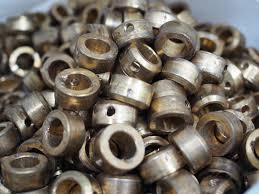metal: (88, 118, 151, 175), (194, 106, 250, 160), (37, 105, 91, 160), (164, 122, 218, 174), (50, 65, 101, 113), (1, 147, 56, 190), (139, 140, 189, 186), (68, 28, 124, 69), (151, 17, 203, 61), (160, 52, 206, 97), (119, 42, 164, 85), (192, 44, 234, 89), (110, 15, 159, 53), (187, 87, 234, 123), (17, 89, 56, 131), (236, 56, 258, 94)
